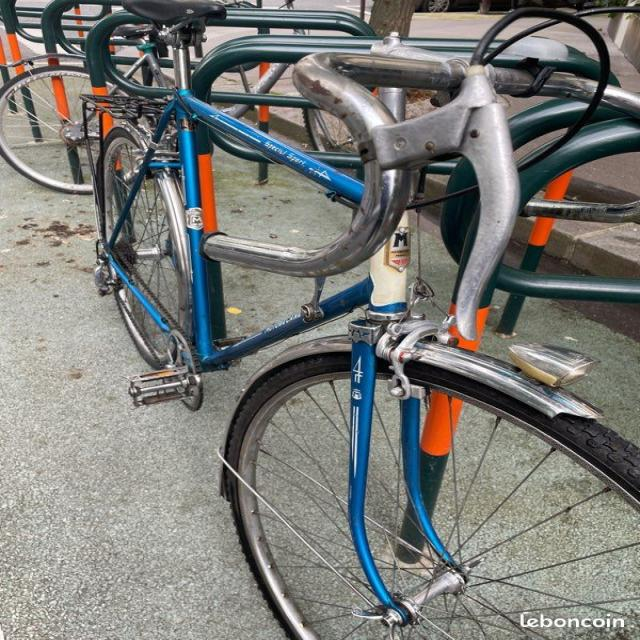Bike: (94, 0, 639, 639)
